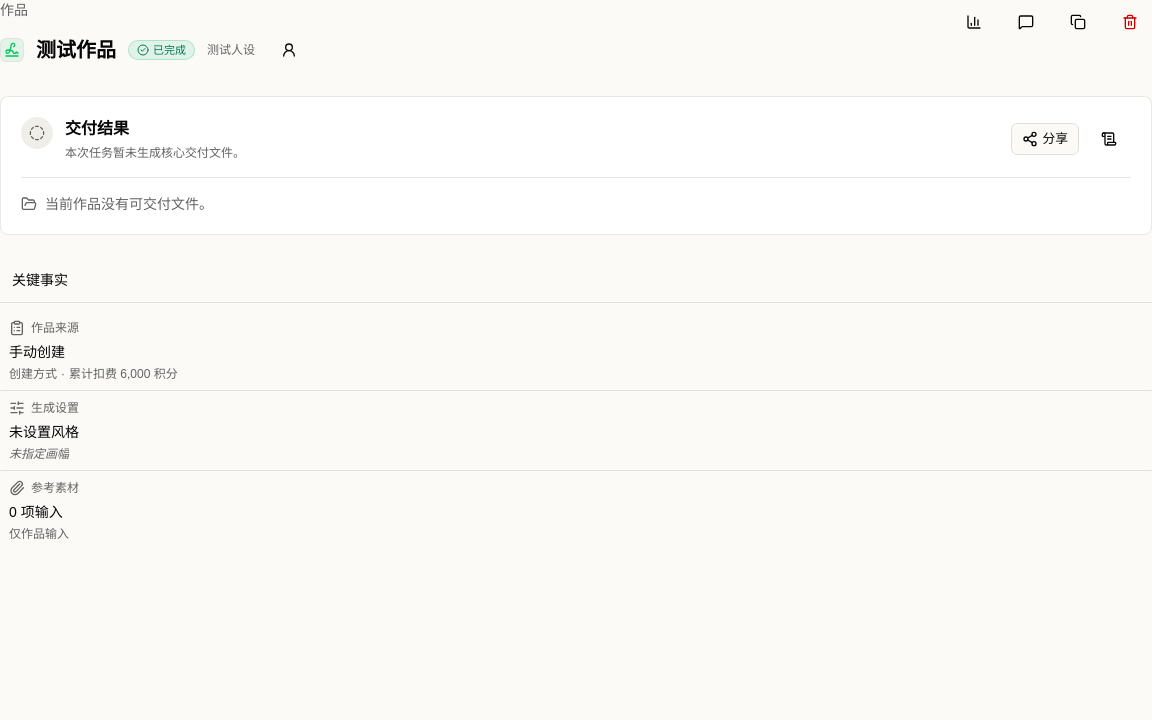
TaskDetailPage › shows live persona profile details and distinguishes the task snapshot
Step 1. Click the button named "查看人设详情：测试人设" → (289, 50), box 267,28 -> 311,72
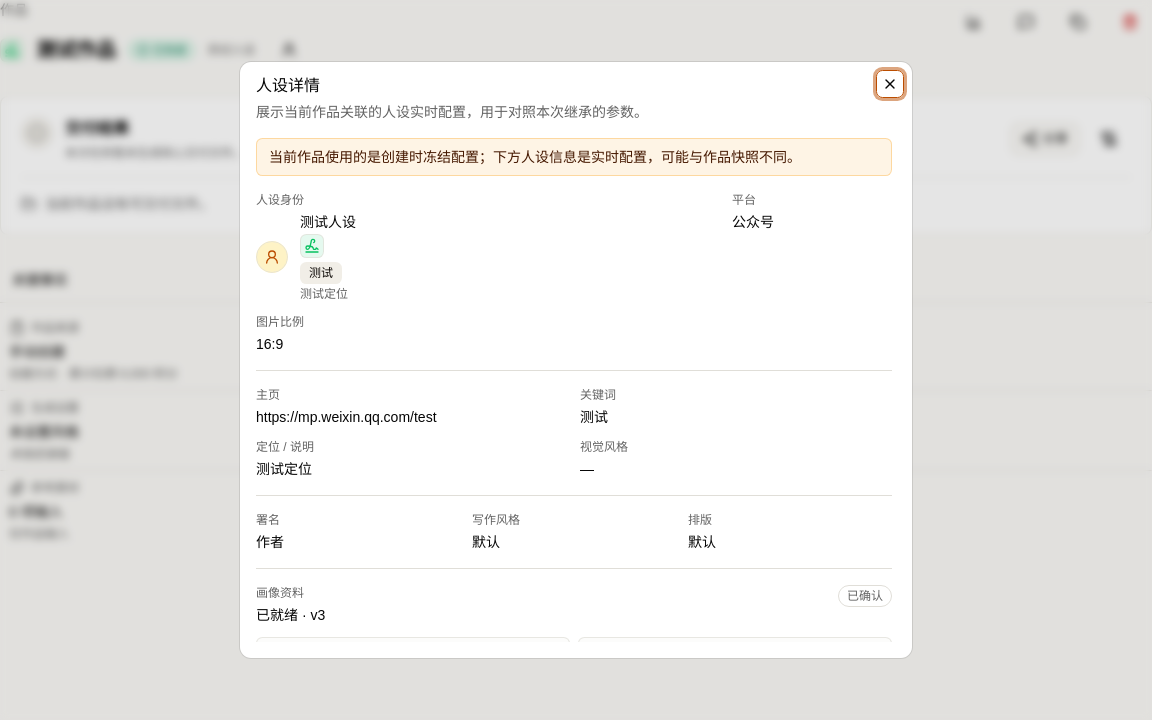
Check: the text "已就绪 · v3" is shown, box 256,605 -> 325,625
Check: the text "当前作品使用的是创建时冻结配置；下方人设信息是实时配置，可能与作品快照不同。" is shown, box 256,138 -> 892,176
